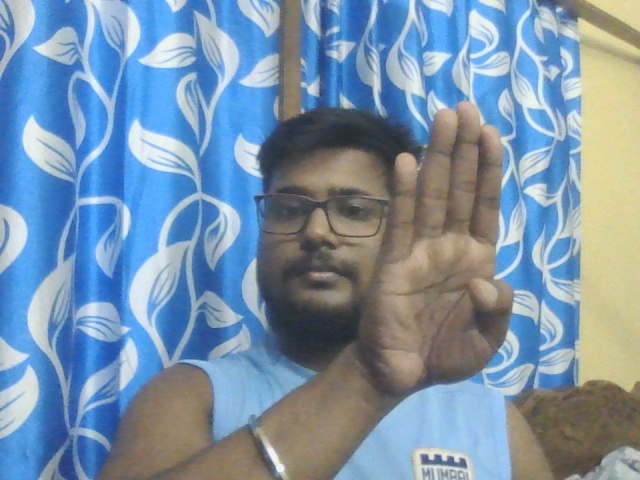B: (373, 105, 515, 392)
